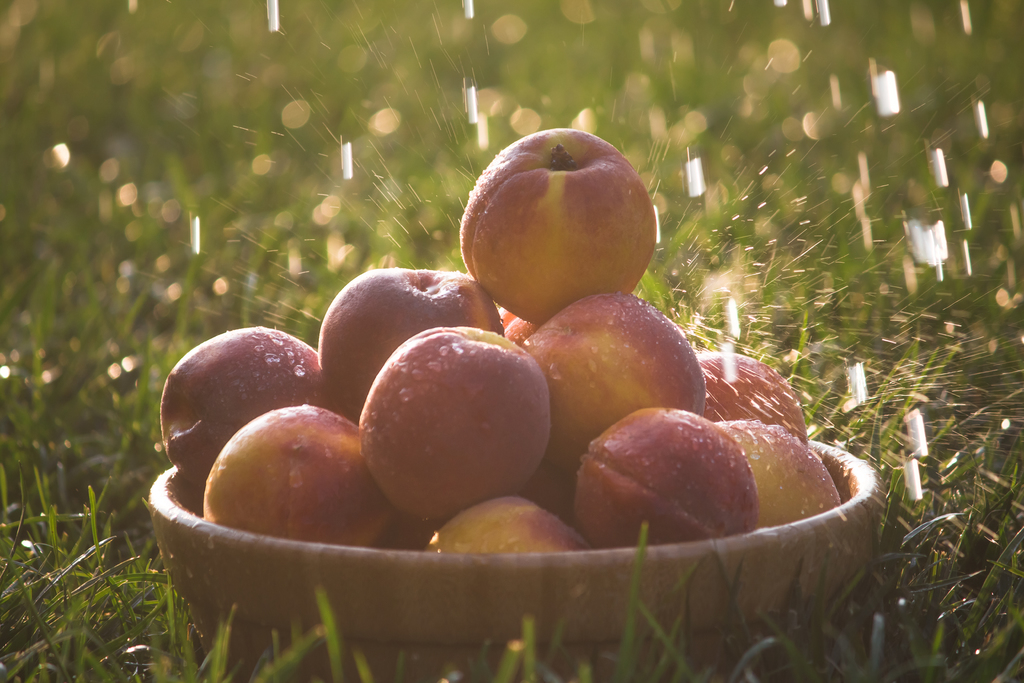Apple: (155, 266, 843, 552), (462, 132, 664, 324)
